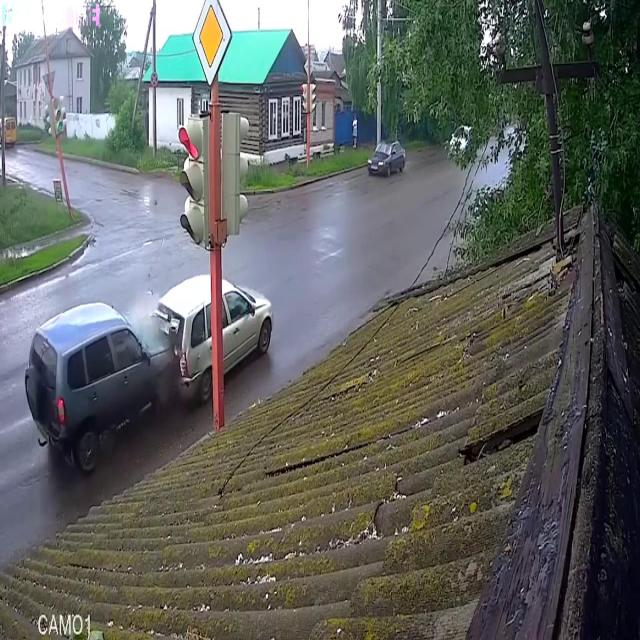accident: (21, 264, 276, 479)
